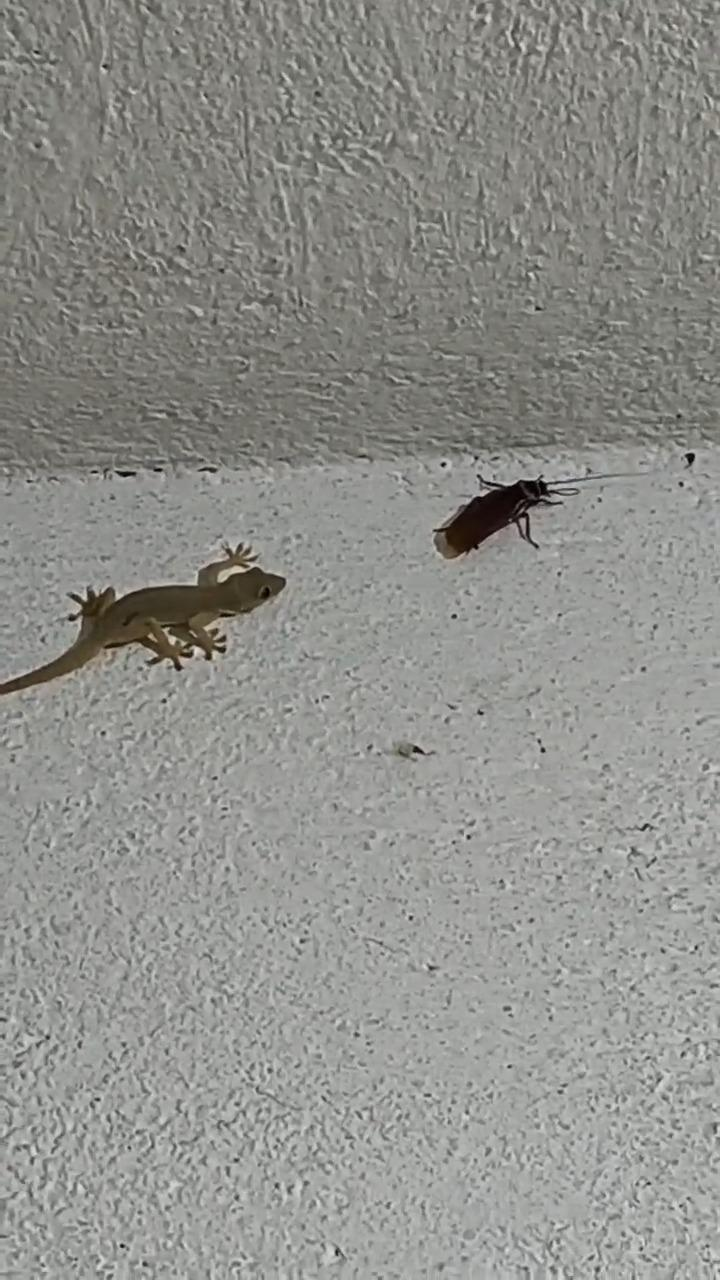cockroach: (425, 465, 603, 566)
lizard: (0, 538, 287, 696)
